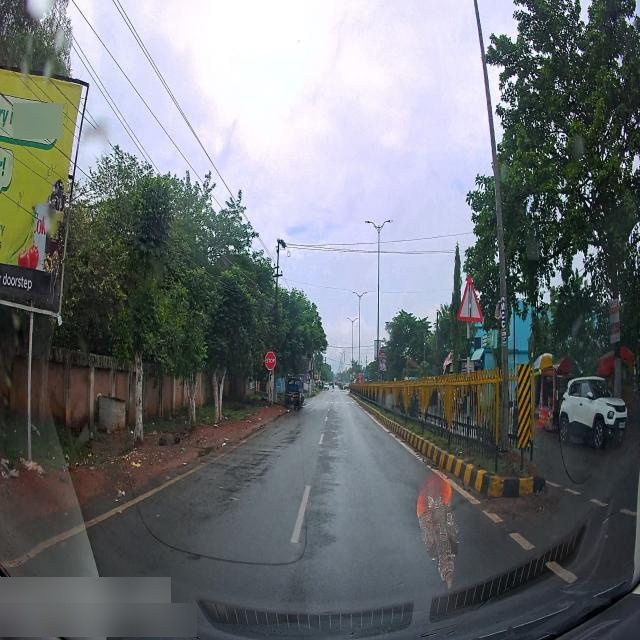pothole: (254, 448, 277, 460), (238, 476, 258, 484), (280, 437, 296, 444), (284, 431, 302, 436)
